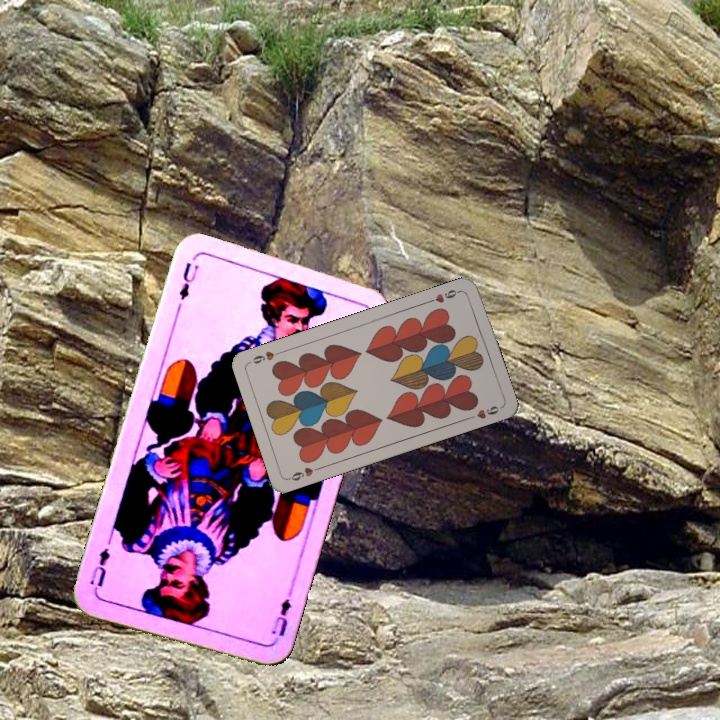EU: (267, 587, 295, 645), (175, 258, 201, 303)
H9: (285, 462, 324, 484), (424, 285, 464, 306)
